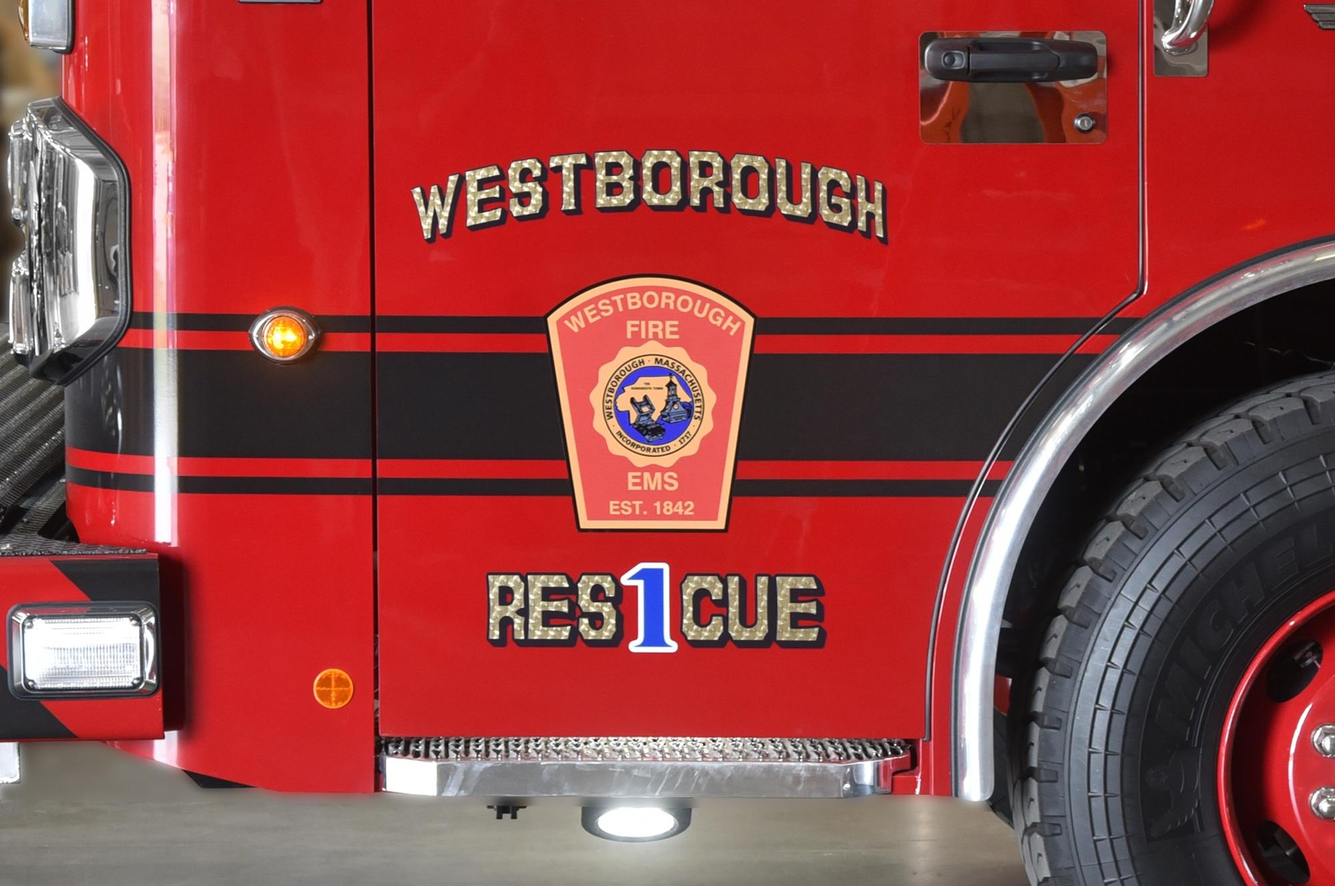Fire-engine: (2, 1, 1332, 884)
